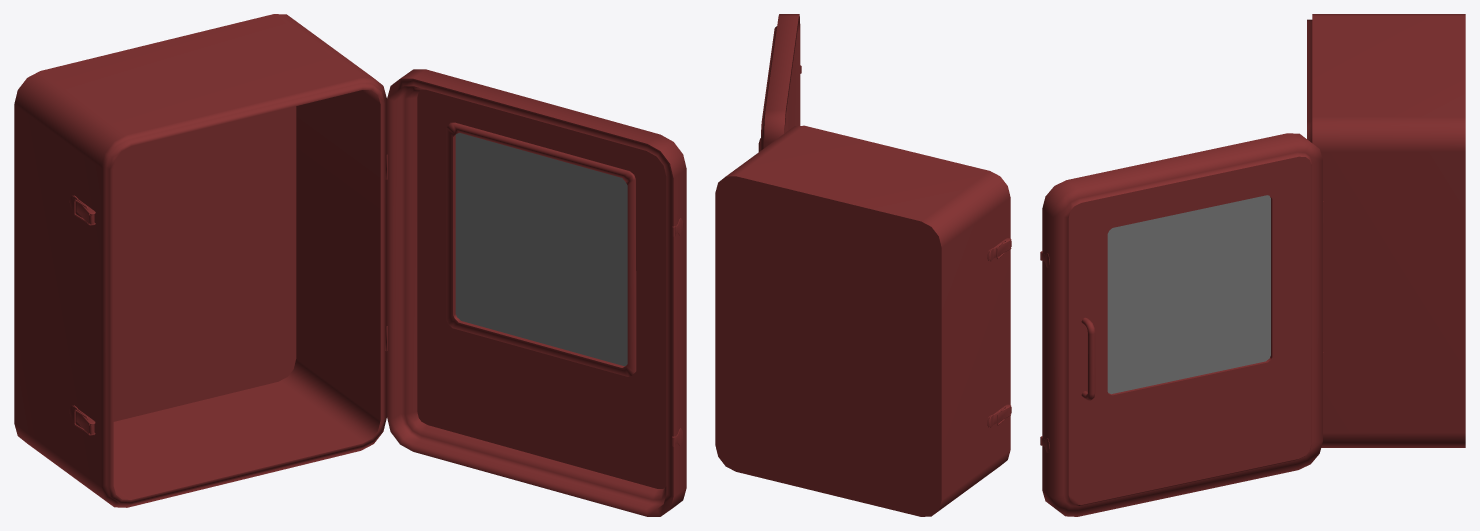
File: SM_Defibrillator_Case_02b.FBX
3 renders of one model, left to right at view 1: azimuth 30°, elevation 25°; view 2: azimuth 150°, elevation 25°; view 3: azimuth 270°, elevation 25°, orthographic. The views are drawn at different scales.
Parts seen in each view (by area): view 1: SM_Defibrillator_Case_02b_LOD0; view 2: SM_Defibrillator_Case_02b_LOD0; view 3: SM_Defibrillator_Case_02b_LOD0.
Boxes of the visible parts, left/top/right/bottom form: SM_Defibrillator_Case_02b_LOD0: left=14, top=14, right=686, bottom=516; SM_Defibrillator_Case_02b_LOD0: left=715, top=14, right=1011, bottom=516; SM_Defibrillator_Case_02b_LOD0: left=1040, top=14, right=1465, bottom=516.
Size of what is drawn, in the model's own units: 59.38 by 47.18 by 55.33.
